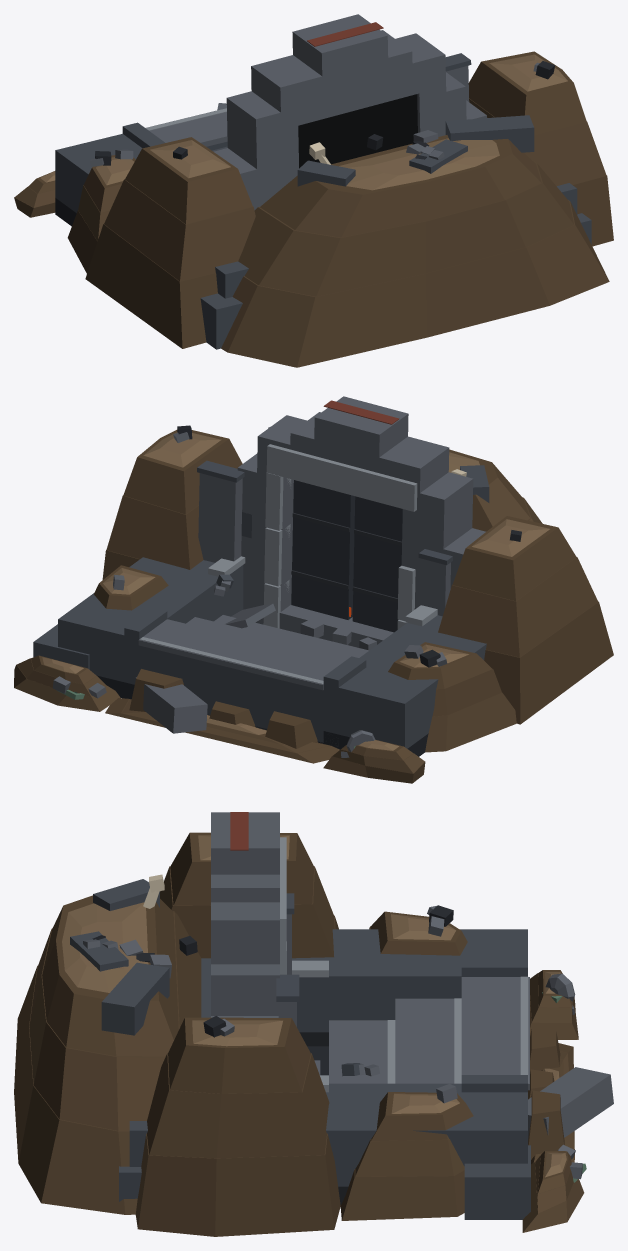
3 renders of one model, top to bottom at view 1: azimuth 30°, elevation 25°; view 2: azimuth 150°, elevation 25°; view 3: azimuth 270°, elevation 25°, orthographic. The views are drawn at different scales.
Parts seen in each view (by area): view 1: DG-主体, DG-team; view 2: DG-主体, DG-team; view 3: DG-主体, DG-team.
Part boxes in pixels (x1,y1,x2,y2): DG-主体: (14, 14, 613, 367); DG-team: (307, 22, 383, 46); DG-主体: (14, 396, 613, 783); DG-team: (323, 400, 399, 424); DG-主体: (14, 812, 613, 1236); DG-team: (230, 812, 248, 850).
Size of the model in its own units: 10.08 by 4.94 by 9.94.
Materials: 3 (2 with a texture image).
